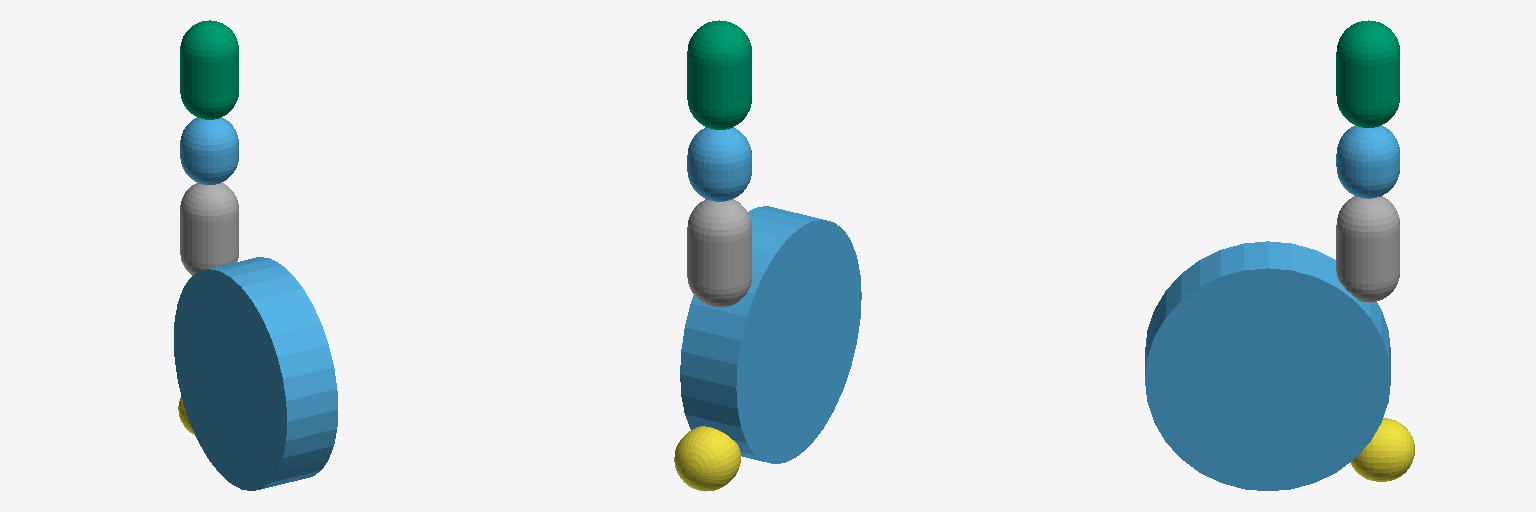
The robot description file, URDF, robot "DexterousHand":
<?xml version="1.0"?>
<robot name="DexterousHand">


    <link name="world"/>
    <joint name="world_to_palm" type="fixed">
        <parent link="world"/>
        <child link="palm"/>
        <origin xyz="0 0 0" rpy="0 0 0"/>
    </joint>
    <link name="palm">
        <inertial>
            <origin xyz="0 0 0.057" rpy="0 0 0"/>
            <mass value="0.30212892864"/>
            <inertia ixx="0.00049080844457568" ixy="0.0" ixz="0.0" iyy="0.00026746366246427523" iyz="0.0" izz="0.00026746366246427523"/>
        </inertial>
        <visual>
            <origin xyz="0 0 0.057" rpy="1.5708 0 1.5708"/>
            <geometry>
                <cylinder radius="0.057" length="0.0296"/>
            </geometry>
            <material name="default"/>
        </visual>
        <collision>
            <origin xyz="0 0 0.057" rpy="1.5708 0 1.5708"/>
            <geometry>
                <cylinder radius="0.057" length="0.0296"/>
            </geometry>
        </collision>
    </link>

    
    <joint name="thumb_joint1" type="revolute">
        <parent link="palm"/>
        <child link="thumb_base"/>
        <origin xyz="0.0029 0.0368 0.0157" rpy="-1.5708 -1.5708 0.0"/>
        <axis xyz="-1 0 0"/>
        <limit lower="-0.349" upper="2.094" effort="1.0" velocity="1.0"/>
    </joint>

    <link name="thumb_base"></link>

    <joint name="thumb_joint2" type="revolute">
        <parent link="thumb_base"/>
        <child link="thumb_proximal"/>
        <origin xyz="0.0 0.0 0.0" rpy="0.0 0.0 0.0"/>
        <axis xyz="0 0 1"/>
        <limit lower="-0.47" upper="2.443" effort="1.0" velocity="1.0"/>
    </joint>

    <link name="thumb_proximal">
        <inertial>
            <origin xyz="0 0 0.01565" rpy="0 0 0"/>
            <mass value="0.021538658803200002"/>
            <inertia ixx="2.9378910096388167e-06" ixy="0.0" ixz="0.0" 
            iyy="2.9378910096388167e-06" iyz="0.0" izz="2.358913912126464e-06"/>
        </inertial>
        <visual>
            <origin xyz="0 0 0.01565" rpy="0 0 0"/>
            <geometry>
                <cylinder radius="0.0148" length="0.0017000000000000001"/>
            </geometry>
            <material name="default"/>
        </visual>
        <visual>
            <origin xyz="0 0 0.0148" rpy="0 0 0"/>
            <geometry>
                <sphere radius="0.0148"/>
            </geometry>
            <material name="default"/>
        </visual>
        <visual>
            <origin xyz="0 0 0.0165" rpy="0 0 0"/>
            <geometry>
                <sphere radius="0.0148"/>
            </geometry>
            <material name="default"/>
        </visual>
        <collision>
            <origin xyz="0 0 0.01565" rpy="0 0 0"/>
            <geometry>
                <cylinder radius="0.0148" length="0.0017000000000000001"/>
            </geometry>
        </collision>
        <collision>
            <origin xyz="0 0 0.0148" rpy="0 0 0"/>
            <geometry>
                <sphere radius="0.0148"/>
            </geometry>
        </collision>
        <collision>
            <origin xyz="0 0 0.0165" rpy="0 0 0"/>
            <geometry>
                <sphere radius="0.0148"/>
            </geometry>
        </collision>
    </link>

    <joint name="thumb_joint3" type="revolute">
        <parent link="thumb_proximal"/>
        <child link="thumb_knuckle"/>
        <origin xyz="0.0 0.0 0.0" rpy="0.0 0.0 0.0"/>
        <axis xyz="1 0 0"/>
        <limit lower="0.0" upper="0.0" effort="1.0" velocity="1.0"/>
    </joint>

    <link name="thumb_knuckle"></link>

    <joint name="thumb_joint4" type="revolute">
        <parent link="thumb_knuckle"/>
        <child link="thumb_middle"/>
        <origin xyz="0 0 0" rpy="0 0 0"/> 
        <axis xyz="0 1 0"/>
        <limit lower="0.0" upper="0.0" effort="1.0" velocity="1.0"/>
    </joint>

    <link name="thumb_middle">
    </link>

    <joint name="thumb_joint5" type="revolute">
        <parent link="thumb_middle"/>
        <child link="thumb_distal"/>
        <origin xyz="0 0 0" rpy="0 0 0"/> 
        <axis xyz="0 1 0"/>
        <limit lower="0.0" upper="0.0" effort="1.0" velocity="1.0"/>
    </joint>

    <link name="thumb_distal">
    </link>

    
    <joint name="index_joint1" type="revolute">
        <parent link="palm"/>
        <child link="index_proximal"/>
        <origin xyz="0.0 0.0465 0.091" rpy="0.0 0.0 0.0"/>
        <axis xyz="0 1 0"/>
        <limit lower="-0.314" upper="2.23" effort="1.0" velocity="1.0"/>
    </joint>

    <link name="index_proximal">
        <inertial>
            <origin xyz="0 0 0.02655" rpy="0 0 0"/>
            <mass value="0.036540024998400006"/>
            <inertia ixx="1.058665009272394e-05" ixy="0.0" ixz="0.0" 
            iyy="1.058665009272394e-05" iyz="0.0" izz="4.001863537824769e-06"/>
        </inertial>
        <visual>
            <origin xyz="0 0 0.02655" rpy="0 0 0"/>
            <geometry>
                <cylinder radius="0.0148" length="0.0235"/>
            </geometry>
            <material name="default"/>
        </visual>
        <visual>
            <origin xyz="0 0 0.0148" rpy="0 0 0"/>
            <geometry>
                <sphere radius="0.0148"/>
            </geometry>
            <material name="default"/>
        </visual>
        <visual>
            <origin xyz="0 0 0.0383" rpy="0 0 0"/>
            <geometry>
                <sphere radius="0.0148"/>
            </geometry>
            <material name="default"/>
        </visual>
        <collision>
            <origin xyz="0 0 0.02655" rpy="0 0 0"/>
            <geometry>
                <cylinder radius="0.0148" length="0.0235"/>
            </geometry>
        </collision>
        <collision>
            <origin xyz="0 0 0.0148" rpy="0 0 0"/>
            <geometry>
                <sphere radius="0.0148"/>
            </geometry>
        </collision>
        <collision>
            <origin xyz="0 0 0.0383" rpy="0 0 0"/>
            <geometry>
                <sphere radius="0.0148"/>
            </geometry>
        </collision>
    </link>

    <joint name="index_joint2" type="revolute">
        <parent link="index_proximal"/>
        <child link="index_dummy"/>
        <origin xyz="0.0 0.0 0.038" rpy="0.0 0.0 0.0"/>
        <axis xyz="1 0 0"/>
        <limit lower="-1.047" upper="1.047" effort="1.0" velocity="1.0"/>
    </joint>

    <link name="index_dummy"></link>

    <joint name="index_joint3" type="revolute">
        <parent link="index_dummy"/>
        <child link="index_middle"/>
        <origin xyz="0 0 0.015100000000000002" rpy="0 0 0"/>
        <axis xyz="0 1 0"/>
        <limit lower="-0.506" upper="1.885" effort="1.0" velocity="1.0"/>
    </joint>

    <link name="index_middle">
        <inertial>
            <origin xyz="0 0 0.01805" rpy="0 0 0"/>
            <mass value="0.0248417119104"/>
            <inertia ixx="4.058162759109537e-06" ixy="0.0" ixz="0.0" 
            iyy="4.058162759109537e-06" iyz="0.0" izz="2.7206642884270085e-06"/>
        </inertial>
        <visual>
            <origin xyz="0 0 0.01805" rpy="0 0 0"/>
            <geometry>
                <cylinder radius="0.0148" length="0.006499999999999999"/>
            </geometry>
            <material name="default"/>
        </visual>
        <visual>
            <origin xyz="0 0 0.0148" rpy="0 0 0"/>
            <geometry>
                <sphere radius="0.0148"/>
            </geometry>
            <material name="default"/>
        </visual>
        <visual>
            <origin xyz="0 0 0.0213" rpy="0 0 0"/>
            <geometry>
                <sphere radius="0.0148"/>
            </geometry>
            <material name="default"/>
        </visual>
        <collision>
            <origin xyz="0 0 0.01805" rpy="0 0 0"/>
            <geometry>
                <cylinder radius="0.0148" length="0.006499999999999999"/>
            </geometry>
        </collision>
        <collision>
            <origin xyz="0 0 0.0148" rpy="0 0 0"/>
            <geometry>
                <sphere radius="0.0148"/>
            </geometry>
        </collision>
        <collision>
            <origin xyz="0 0 0.0213" rpy="0 0 0"/>
            <geometry>
                <sphere radius="0.0148"/>
            </geometry>
        </collision>
    </link>

    <joint name="index_joint4" type="revolute">
        <parent link="index_middle"/>
        <child link="index_distal"/>
        <origin xyz="0 0 0.0361" rpy="0 0 0"/> 
        <axis xyz="0 1 0"/>
        <limit lower="-0.366" upper="2.042" effort="1.0" velocity="1.0"/>
    </joint>

    <link name="index_distal">
        <inertial>
            <origin xyz="0 0 0.026" rpy="0 0 0"/>
            <mass value="0.035783075328"/>
            <inertia ixx="1.002260084553728e-05" ixy="0.0" ixz="0.0" 
            iyy="1.002260084553728e-05" iyz="0.0" izz="3.91896240992256e-06"/>
        </inertial>
        <visual>
            <origin xyz="0 0 0.026" rpy="0 0 0"/>
            <geometry>
                <cylinder radius="0.0148" length="0.022399999999999996"/>
            </geometry>
            <material name="default"/>
        </visual>
        <visual>
            <origin xyz="0 0 0.0148" rpy="0 0 0"/>
            <geometry>
                <sphere radius="0.0148"/>
            </geometry>
            <material name="default"/>
        </visual>
        <visual>
            <origin xyz="0 0 0.0372" rpy="0 0 0"/>
            <geometry>
                <sphere radius="0.0148"/>
            </geometry>
            <material name="default"/>
        </visual>
        <collision>
            <origin xyz="0 0 0.026" rpy="0 0 0"/>
            <geometry>
                <cylinder radius="0.0148" length="0.022399999999999996"/>
            </geometry>
        </collision>
        <collision>
            <origin xyz="0 0 0.0148" rpy="0 0 0"/>
            <geometry>
                <sphere radius="0.0148"/>
            </geometry>
        </collision>
        <collision>
            <origin xyz="0 0 0.0372" rpy="0 0 0"/>
            <geometry>
                <sphere radius="0.0148"/>
            </geometry>
        </collision>
    </link>

    
    <joint name="middle_joint1" type="revolute">
        <parent link="palm"/>
        <child link="middle_proximal"/>
        <origin xyz="0.0 0.0 0.0" rpy="0.0 0.0 0.0"/>
        <axis xyz="1 0 0"/>
        <limit lower="0.0" upper="0.0" effort="1.0" velocity="1.0"/>
    </joint>

    <link name="middle_proximal">
    </link>

    <joint name="middle_joint2" type="revolute">
        <parent link="middle_proximal"/>
        <child link="middle_dummy"/>
        <origin xyz="0.0 0.0 0.0" rpy="0.0 0.0 0.0"/>
        <axis xyz="0 1 0"/>
        <limit lower="0.0" upper="0.0" effort="1.0" velocity="1.0"/>
    </joint>

    <link name="middle_dummy"></link>

    <joint name="middle_joint3" type="revolute">
        <parent link="middle_dummy"/>
        <child link="middle_middle"/>
        <origin xyz="0 0 0" rpy="0 0 0"/>
        <axis xyz="0 1 0"/>
        <limit lower="0.0" upper="0.0" effort="1.0" velocity="1.0"/>
    </joint>

    <link name="middle_middle">
    </link>

    <joint name="middle_joint4" type="revolute">
        <parent link="middle_middle"/>
        <child link="middle_distal"/>
        <origin xyz="0 0 0" rpy="0 0 0"/> 
        <axis xyz="0 1 0"/>
        <limit lower="0.0" upper="0.0" effort="1.0" velocity="1.0"/>
    </joint>

    <link name="middle_distal">
    </link>

    
    <joint name="ring_joint1" type="revolute">
        <parent link="palm"/>
        <child link="ring_proximal"/>
        <origin xyz="0.0 0.0 0.0" rpy="0.0 0.0 0.0"/>
        <axis xyz="1 0 0"/>
        <limit lower="0.0" upper="0.0" effort="1.0" velocity="1.0"/>
    </joint>

    <link name="ring_proximal">
    </link>

    <joint name="ring_joint2" type="revolute">
        <parent link="ring_proximal"/>
        <child link="ring_dummy"/>
        <origin xyz="0.0 0.0 0.0" rpy="0.0 0.0 0.0"/>
        <axis xyz="0 1 0"/>
        <limit lower="0.0" upper="0.0" effort="1.0" velocity="1.0"/>
    </joint>

    <link name="ring_dummy"></link>

    <joint name="ring_joint3" type="revolute">
        <parent link="ring_dummy"/>
        <child link="ring_middle"/>
        <origin xyz="0 0 0" rpy="0 0 0"/>
        <axis xyz="0 1 0"/>
        <limit lower="0.0" upper="0.0" effort="1.0" velocity="1.0"/>
    </joint>

    <link name="ring_middle">
    </link>

    <joint name="ring_joint4" type="revolute">
        <parent link="ring_middle"/>
        <child link="ring_distal"/>
        <origin xyz="0 0 0" rpy="0 0 0"/> 
        <axis xyz="0 1 0"/>
        <limit lower="0.0" upper="0.0" effort="1.0" velocity="1.0"/>
    </joint>

    <link name="ring_distal">
    </link>

    
    <joint name="little_joint0" type="revolute">
        <parent link="palm"/>
        <child link="little_base"/>
        <origin xyz="0.0 0.0 0.0" rpy="0.0 0.0 0.0"/>
        <axis xyz="0 1 0"/>
        <limit lower="0.0" upper="0.0" effort="1.0" velocity="1.0"/>
    </joint>

    <link name="little_base"></link>

    <joint name="little_joint1" type="revolute">
        <parent link="little_base"/>
        <child link="little_proximal"/>
        <origin xyz="0.0 0.0 0.0" rpy="-0.0 -0.0 -0.0"/>
        <axis xyz="1 0 0"/>
        <limit lower="0.0" upper="0.0" effort="1.0" velocity="1.0"/>
    </joint>

    <link name="little_proximal">
    </link>

    <joint name="little_joint2" type="revolute">
        <parent link="little_proximal"/>
        <child link="little_dummy"/>
        <origin xyz="0.0 0.0 0.0" rpy="0.0 0.0 0.0"/>
        <axis xyz="0 1 0"/>
        <limit lower="0.0" upper="0.0" effort="1.0" velocity="1.0"/>
    </joint>

    <link name="little_dummy"></link>

    <joint name="little_joint3" type="revolute">
        <parent link="little_dummy"/>
        <child link="little_middle"/>
        <origin xyz="0 0 0" rpy="0 0 0"/>
        <axis xyz="0 1 0"/>
        <limit lower="0.0" upper="0.0" effort="1.0" velocity="1.0"/>
    </joint>

    <link name="little_middle">
    </link>

    <joint name="little_joint4" type="revolute">
        <parent link="little_middle"/>
        <child link="little_distal"/>
        <origin xyz="0 0 0" rpy="0 0 0"/>
        <axis xyz="0 1 0"/>
        <limit lower="0.0" upper="0.0" effort="1.0" velocity="1.0"/>
    </joint>

    <link name="little_distal">
    </link>

</robot>

--- What the picture shows (computed from the rendered views, not written in the file) ---
3 views of the same robot in one strip: view 1: azimuth 30°, elevation 25°; view 2: azimuth 150°, elevation 25°; view 3: azimuth 270°, elevation 25° (orthographic).
Robot: DexterousHand — 24 links, 23 joints (22 revolute, 1 fixed); root link world; default pose: every joint at zero.
Visible links, largest first — view 1: palm, index_distal, index_proximal, index_middle; view 2: palm, index_proximal, index_distal, index_middle, thumb_proximal; view 3: palm, index_distal, index_proximal, index_middle, thumb_proximal.
Boxes of the visible links, box(x1,y1,x2,y2) form: palm: box(174, 257, 337, 490); index_distal: box(180, 20, 238, 119); index_proximal: box(180, 183, 238, 275); index_middle: box(180, 117, 238, 184); palm: box(680, 206, 861, 463); index_proximal: box(687, 199, 751, 307); index_distal: box(687, 20, 751, 129); index_middle: box(687, 127, 751, 201); thumb_proximal: box(674, 426, 740, 491); palm: box(1145, 241, 1390, 490); index_distal: box(1336, 20, 1399, 127); index_proximal: box(1336, 196, 1399, 302); index_middle: box(1336, 125, 1399, 198); thumb_proximal: box(1350, 418, 1414, 481).
Size in the robot's own frame: 0.0325 by 0.1251 by 0.2322 metres.
Geometry: primitives only (box / cylinder / sphere), no mesh files.
